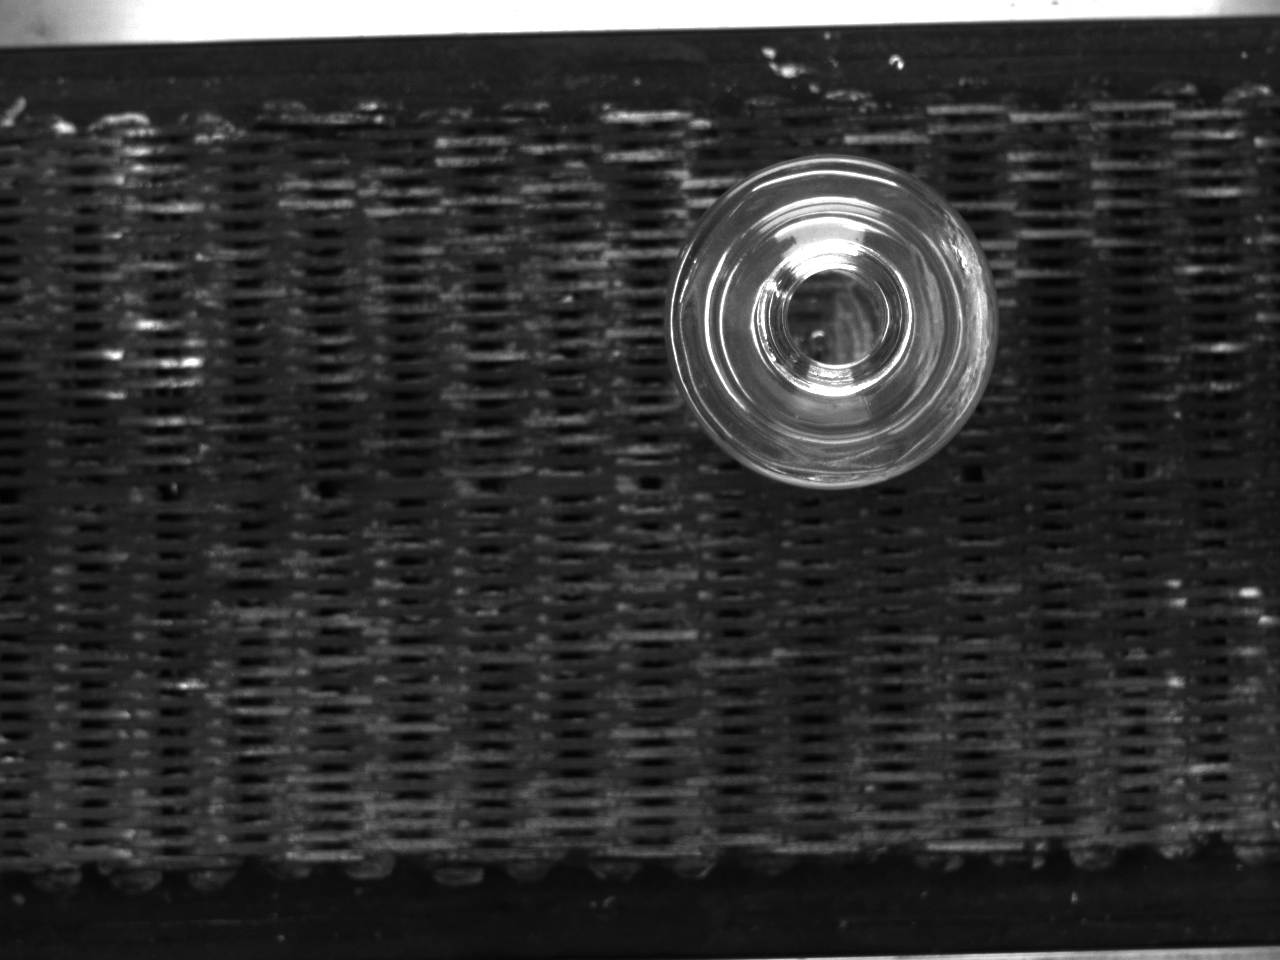bottleneck: (754, 240, 915, 395)
